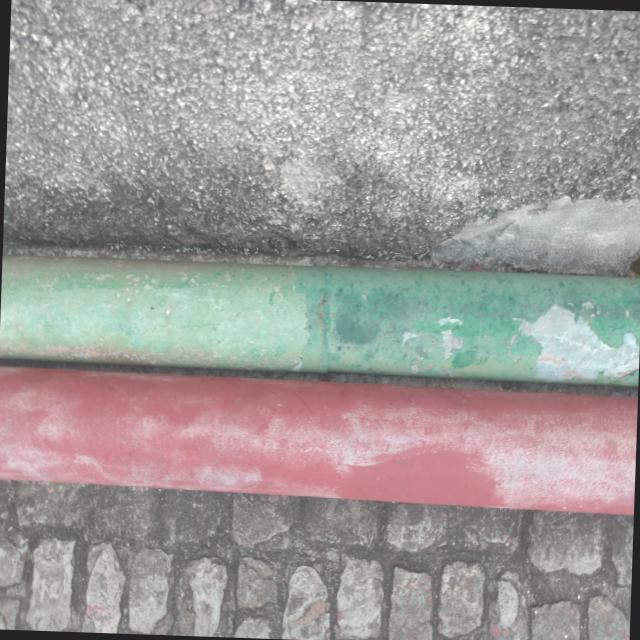gas: (0, 367, 637, 518), (0, 249, 640, 388)
